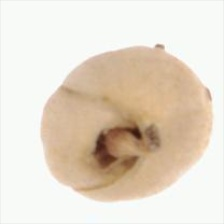L3: (94, 120, 149, 172)
L4: (40, 44, 213, 201)
